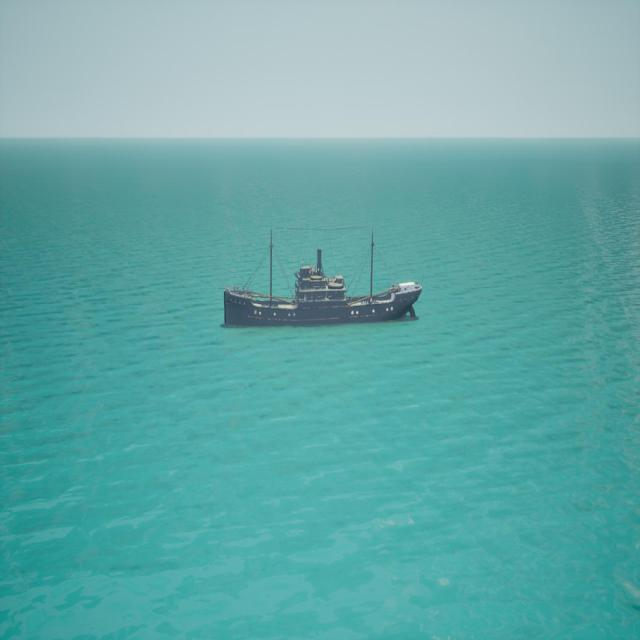fishing ship: (226, 230, 423, 329)
